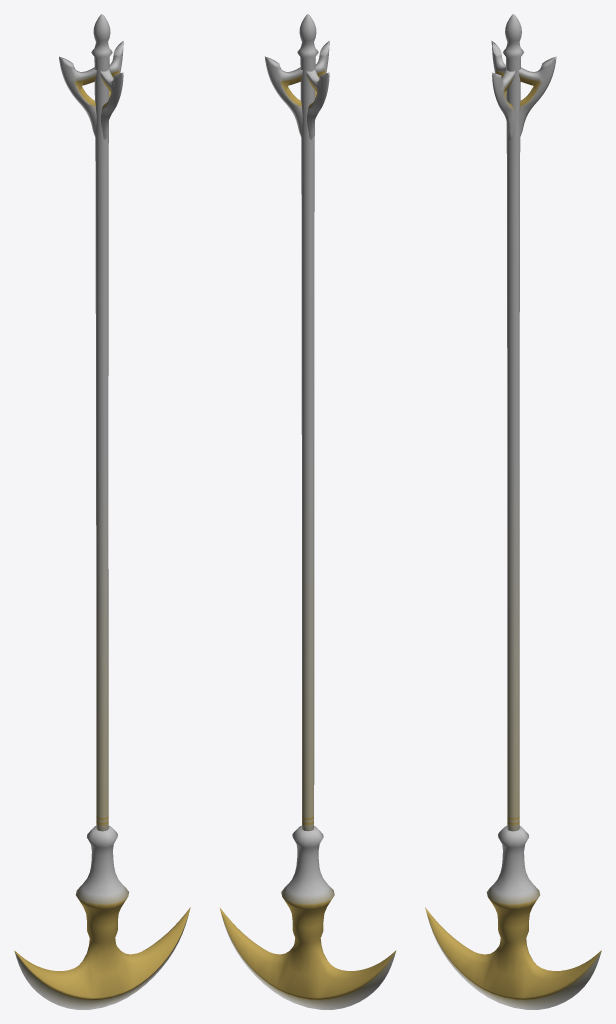
Rendered from weapon_link_arrow.glb.
The picture shows the model from 3 angles, left to right: view 1: azimuth 30°, elevation 25°; view 2: azimuth 150°, elevation 25°; view 3: azimuth 330°, elevation 25°; orthographic projection.
Parts seen in each view (by area): view 1: arrow_arrow_0; view 2: arrow_arrow_0; view 3: arrow_arrow_0.
Part boxes in pixels (x1=…): arrow_arrow_0: x1=14, y1=14, x2=190, y2=1009; arrow_arrow_0: x1=219, y1=14, x2=396, y2=1009; arrow_arrow_0: x1=425, y1=14, x2=601, y2=1009.
Size of the model in its own units: 0.1675 by 0.9 by 0.0576.
Materials: 1 (1 with a texture image).
